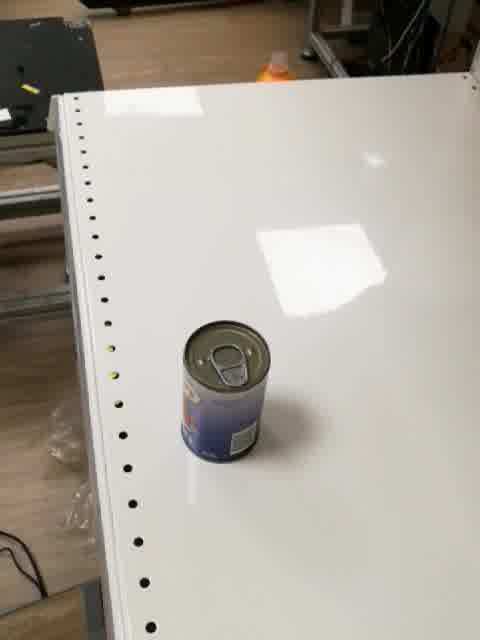sardine: (180, 320, 272, 464)
